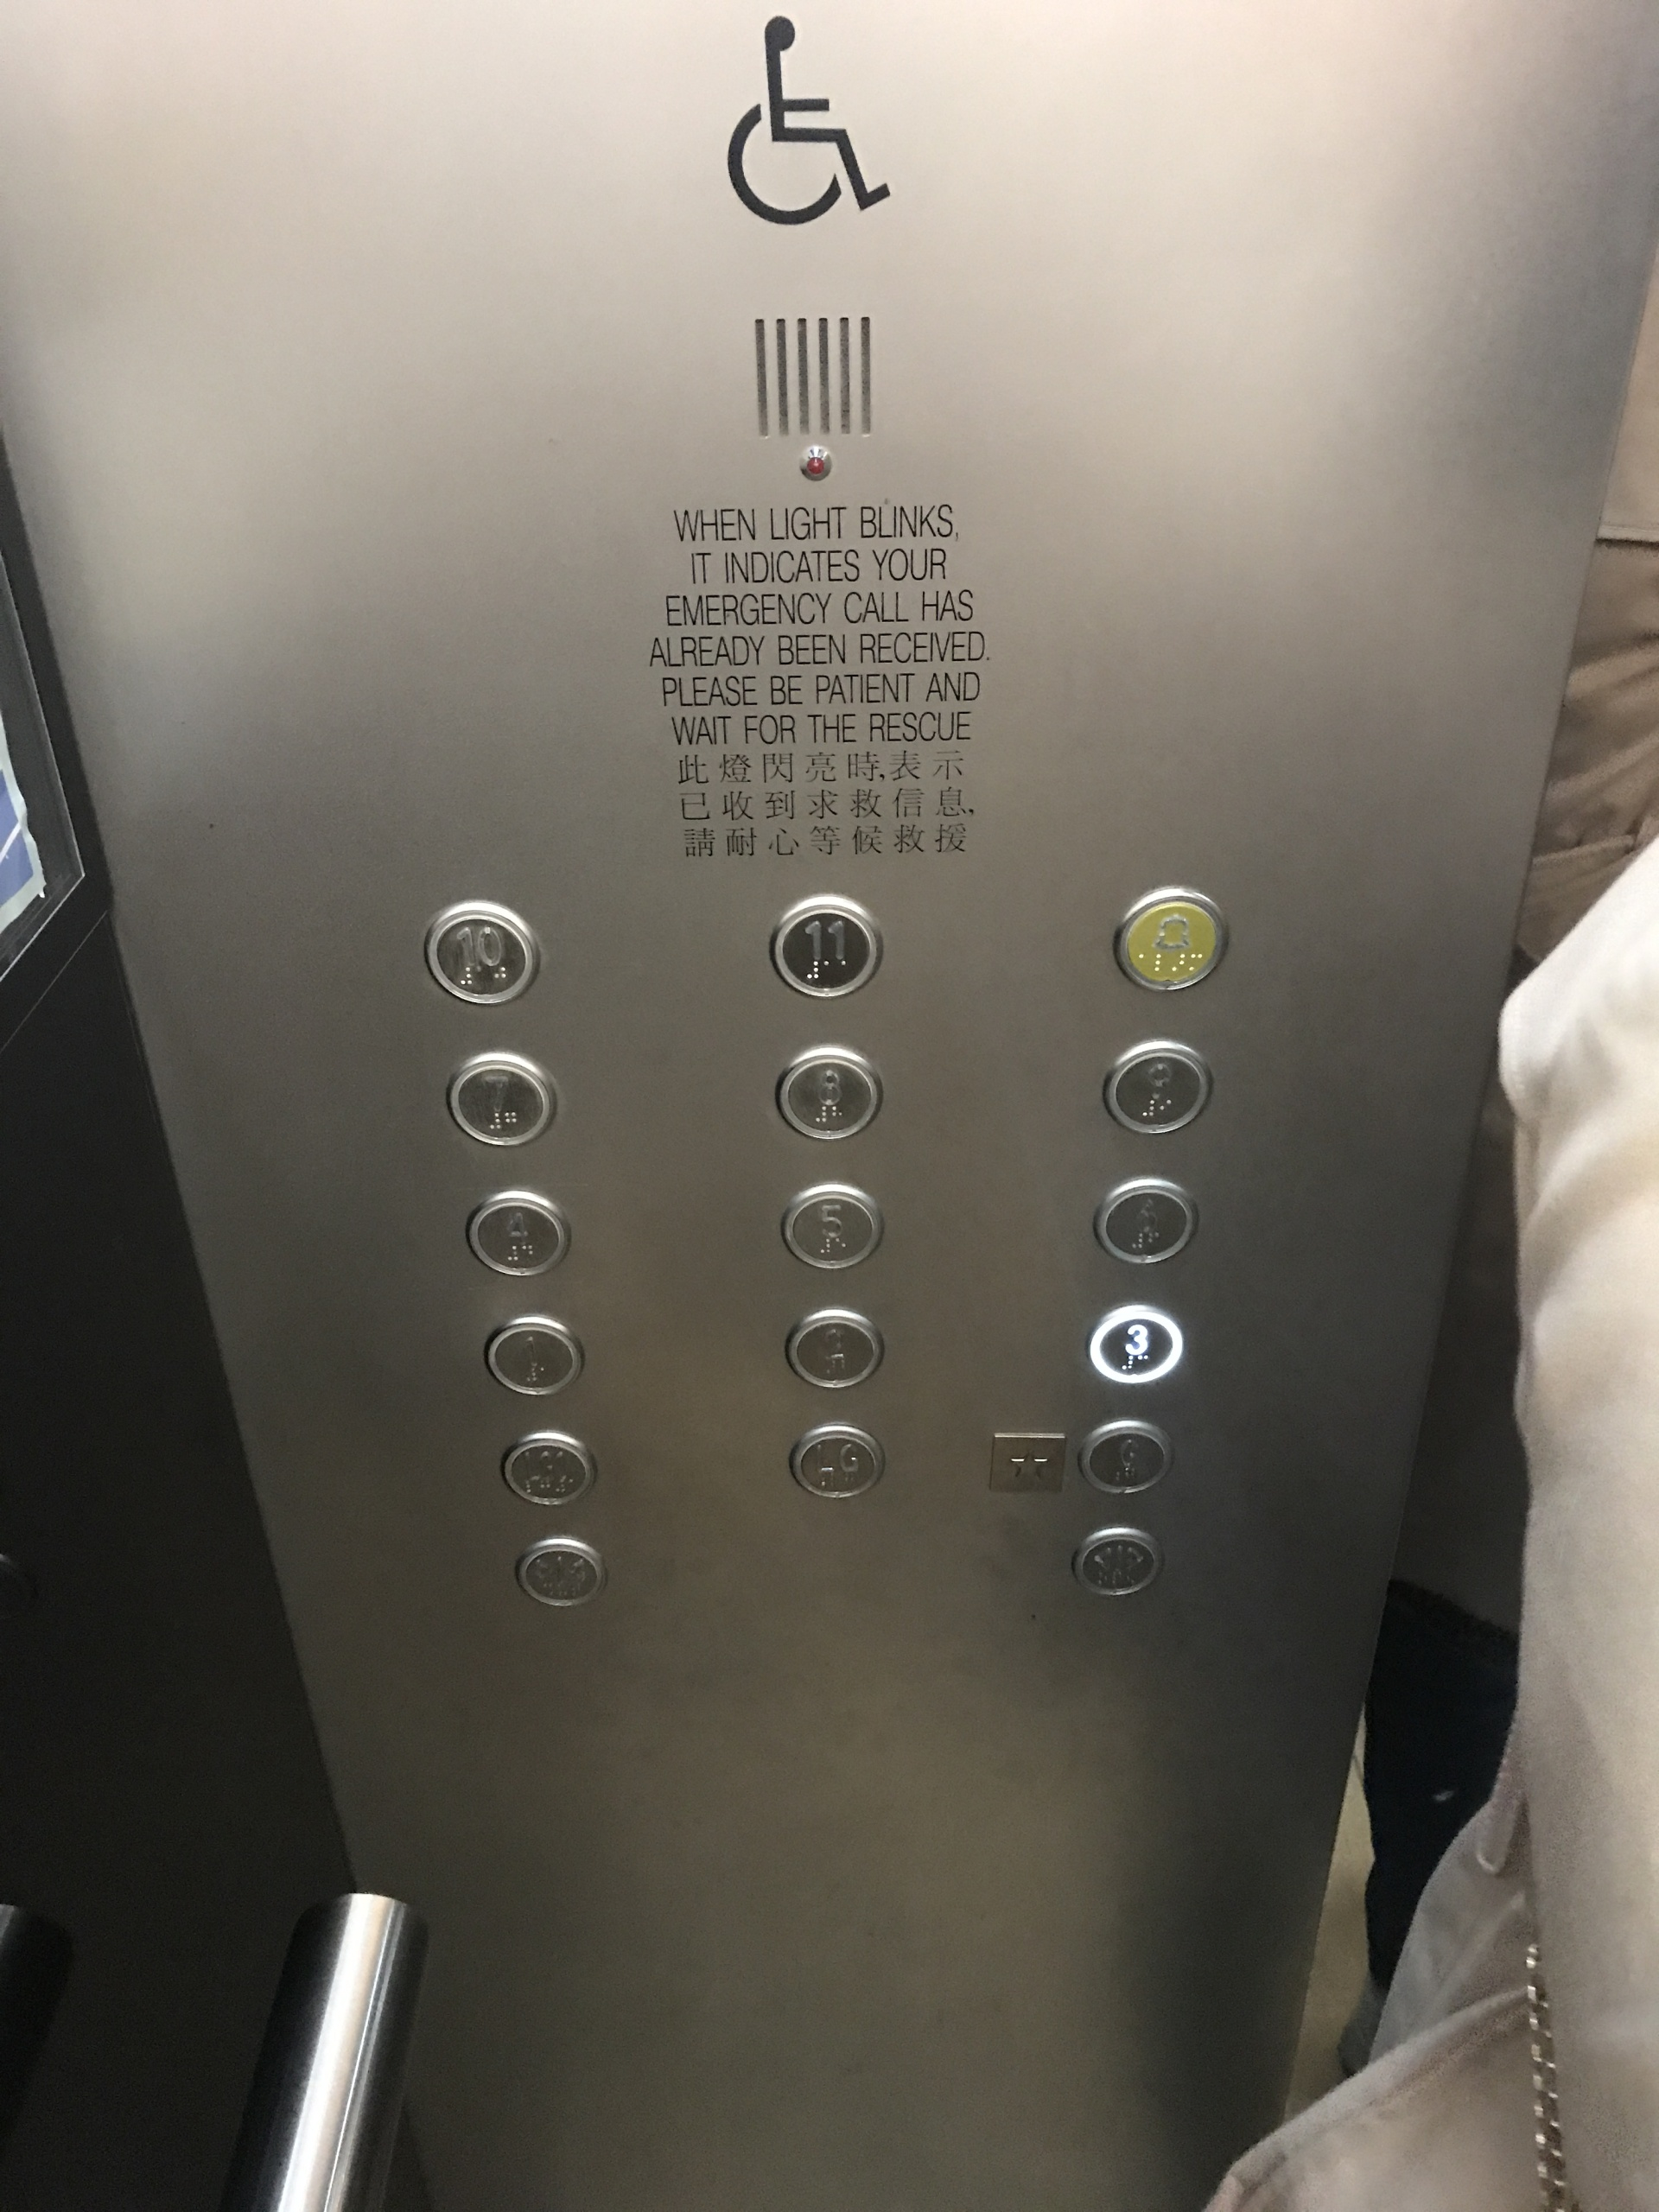1: (483, 1313, 586, 1397)
10: (423, 895, 540, 1008)
11: (765, 890, 885, 1000)
2: (781, 1306, 884, 1392)
3: (1084, 1301, 1187, 1386)
4: (464, 1188, 573, 1282)
5: (777, 1181, 884, 1273)
6: (1091, 1176, 1197, 1268)
7: (446, 1049, 558, 1150)
8: (772, 1042, 884, 1144)
9: (1100, 1036, 1211, 1137)
G: (1073, 1418, 1176, 1496)
LG: (784, 1423, 887, 1503)
LG1: (495, 1428, 598, 1507)
alarm: (1110, 885, 1230, 996)
close: (516, 1534, 608, 1609)
open: (1070, 1522, 1162, 1599)
s: (983, 1426, 1070, 1500)
